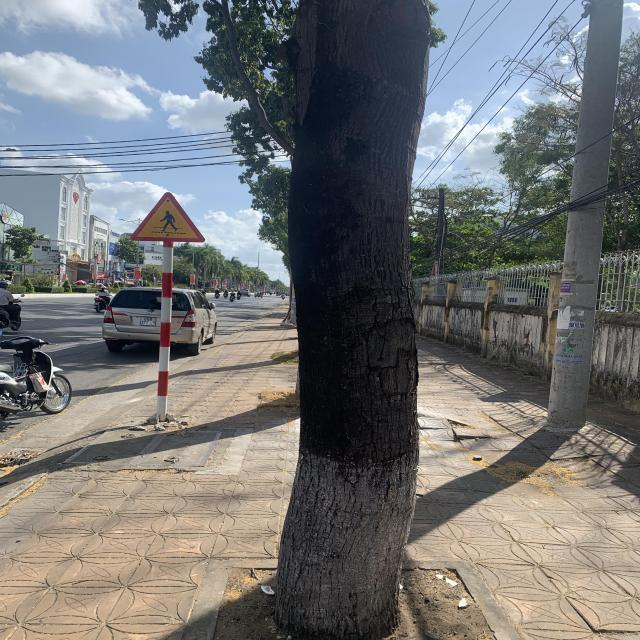Duong_Nguoi_Di_Bo_Sang_Ngang: (129, 192, 205, 242)
